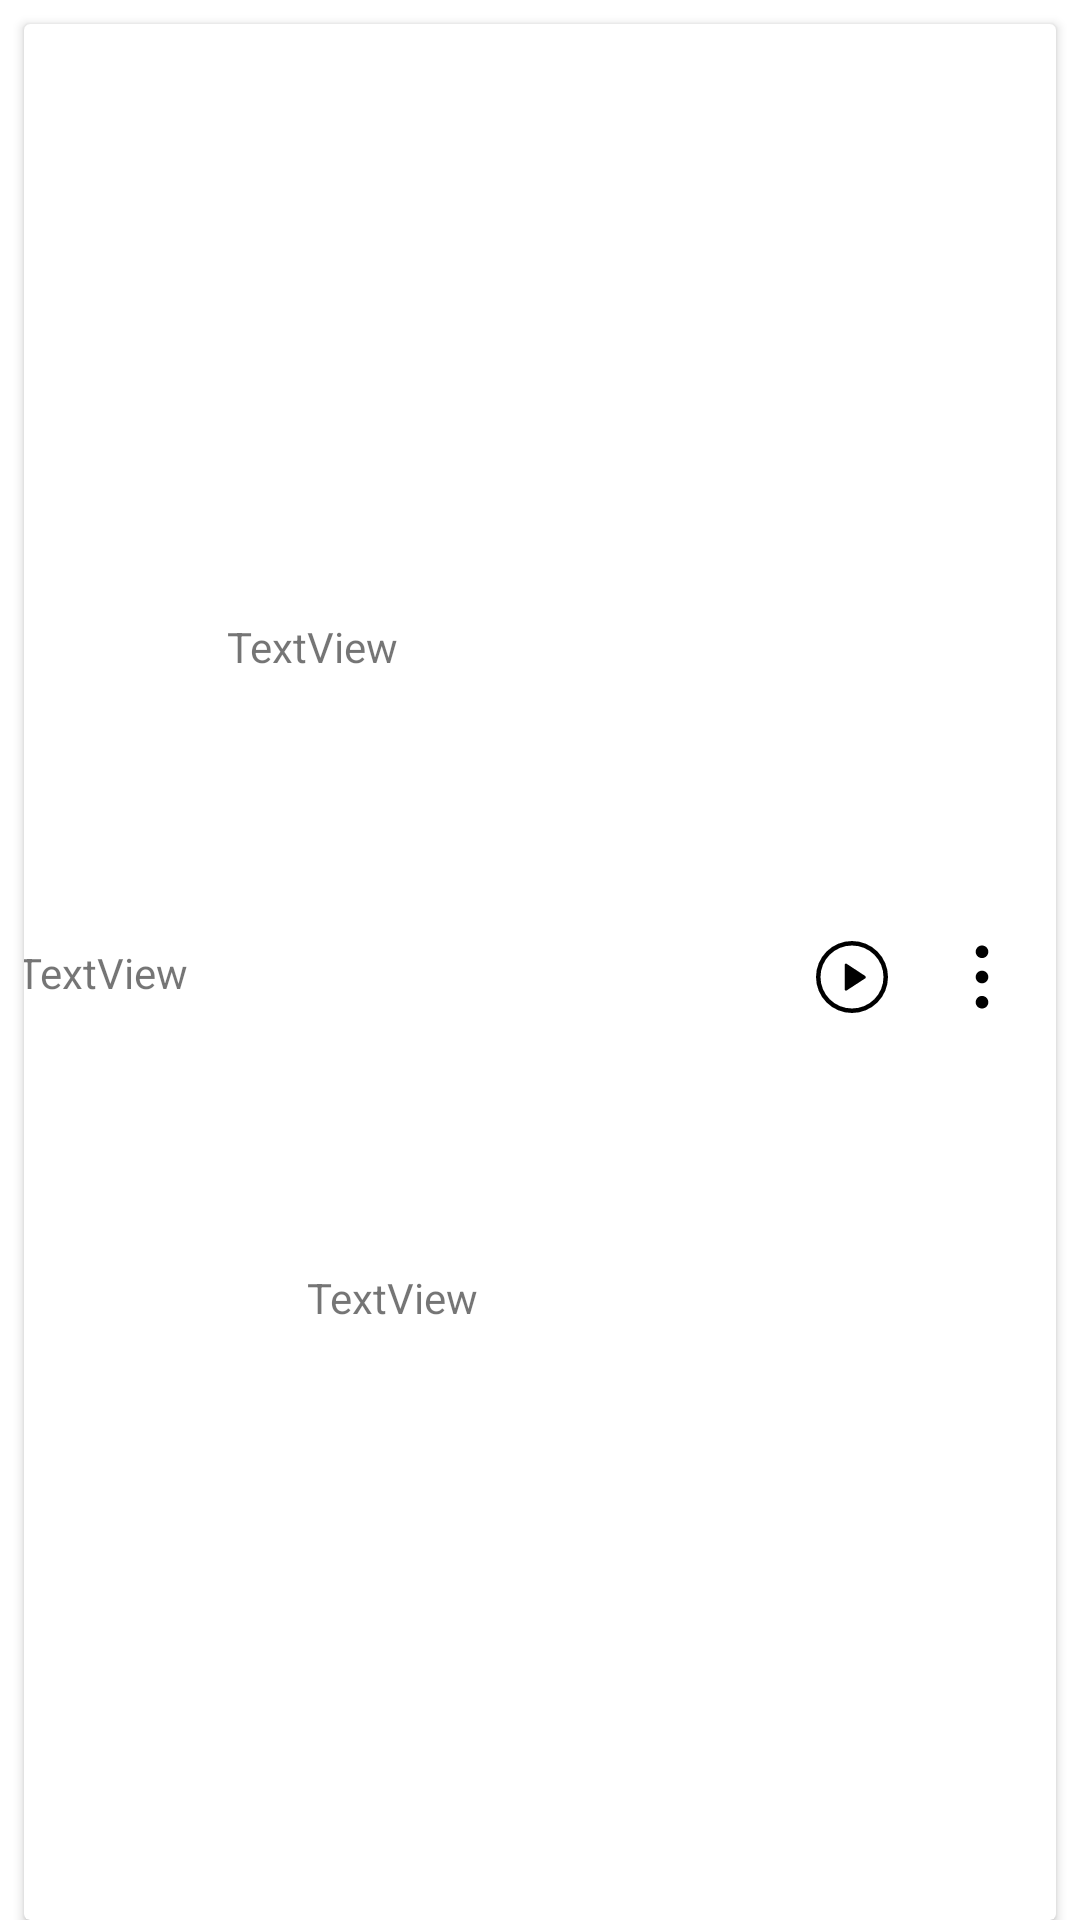

Icon click points for this 1080x1920 phone screenshot, format (x=x, y=y):
more: (x=982, y=977)
play: (x=852, y=977)
